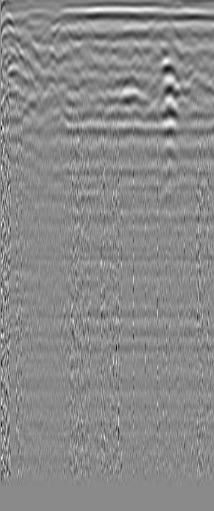오수: (12, 18, 39, 39)
우수: (175, 26, 199, 47)
